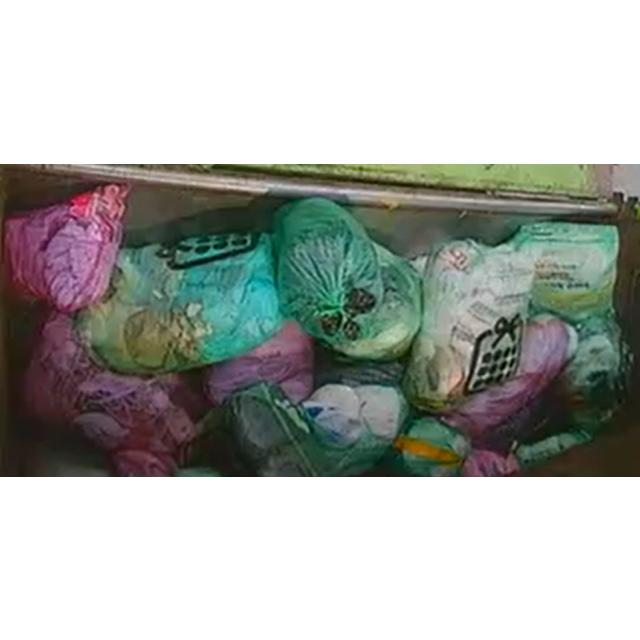general_trashbag: (76, 232, 282, 372), (274, 197, 421, 359), (405, 238, 534, 409), (510, 222, 619, 320), (302, 383, 409, 474), (224, 382, 326, 475), (562, 309, 629, 433)
other_trashbag: (26, 312, 211, 474), (5, 183, 130, 311)
